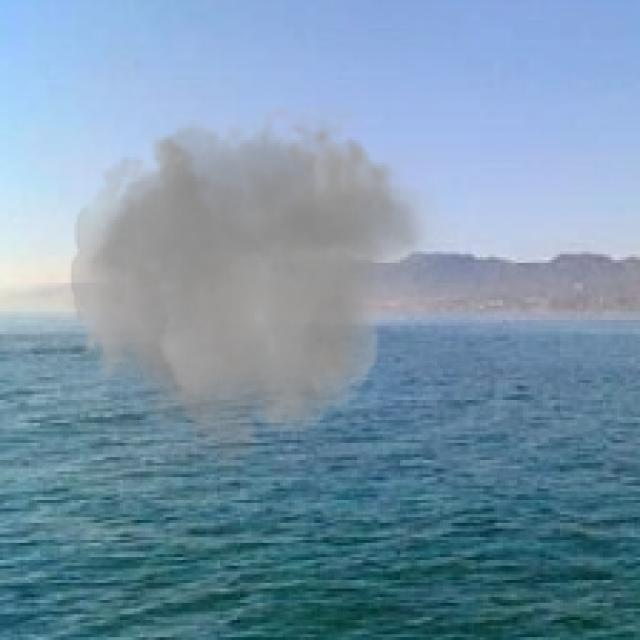Smoke: (60, 86, 457, 483)
